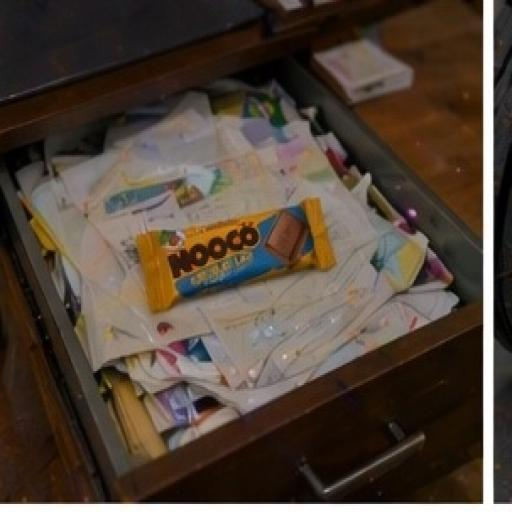biscuit-detection: (125, 179, 347, 329)
